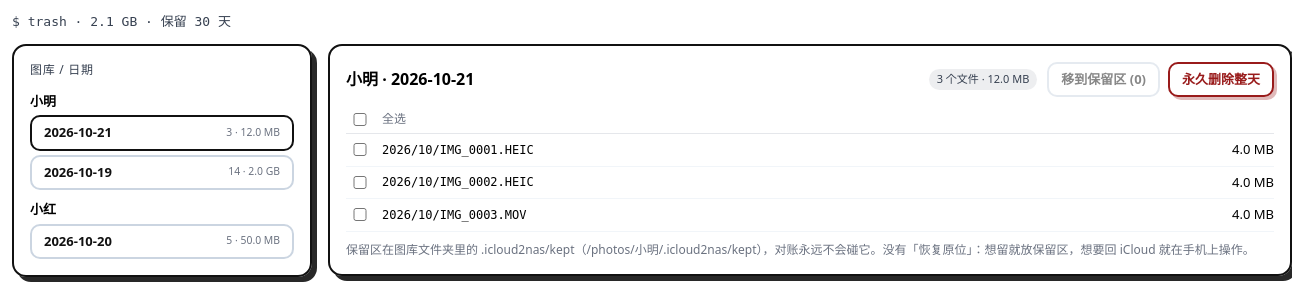
it: Trash page › checking two rows enables 移到保留区 (2) and posts {paths} with library/day in the query
The image size is (1292, 299).
Check: the button "移到保留区 (0)" is disabled, box 1047,62 -> 1160,97
Click the checkbox labelled "2026/10/IMG_0001.HEIC".
click(360, 150)  # box 346,143 -> 374,156
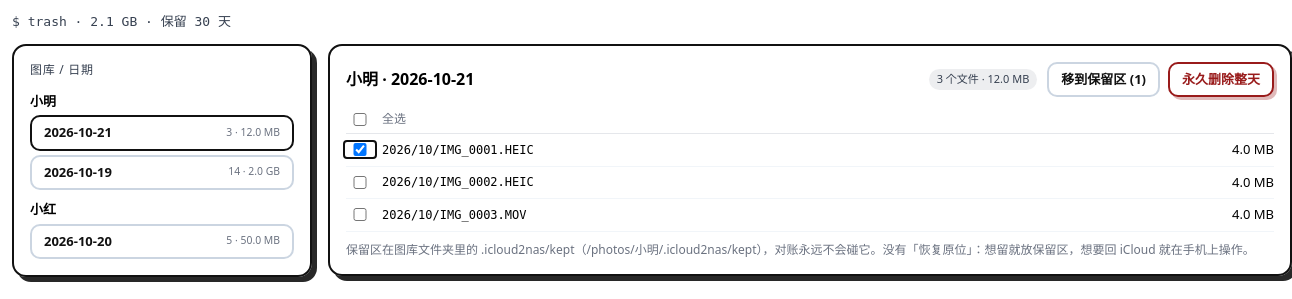
Click the checkbox labelled "2026/10/IMG_0003.MOV".
click(360, 215)  # box 346,208 -> 374,221
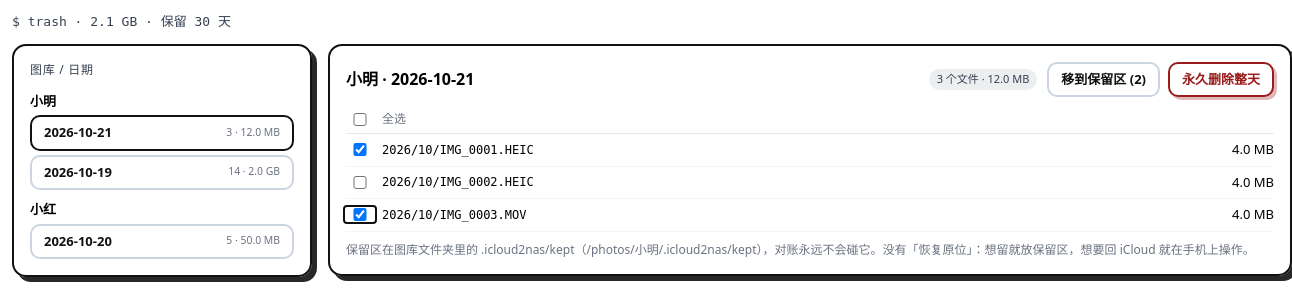
Check: the button "移到保留区 (2)" is enabled
Click the button "移到保留区 (2)".
click(1104, 79)  # box 1047,62 -> 1160,97
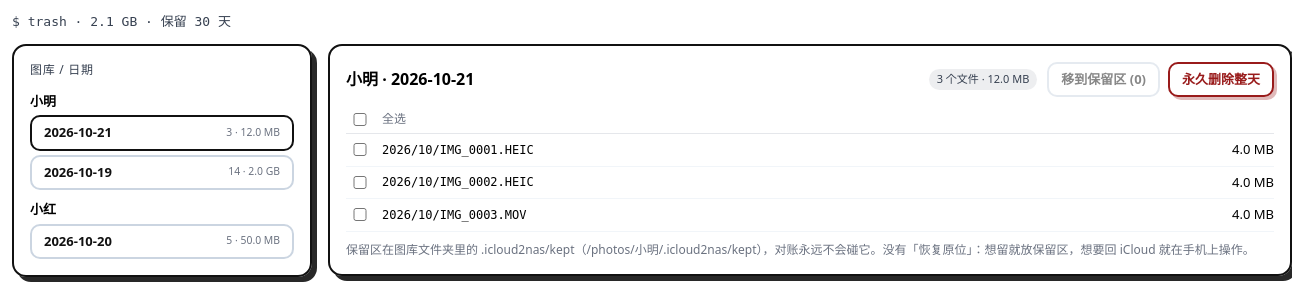
Check: the button "移到保留区 (0)" is disabled, box 1047,62 -> 1160,97
